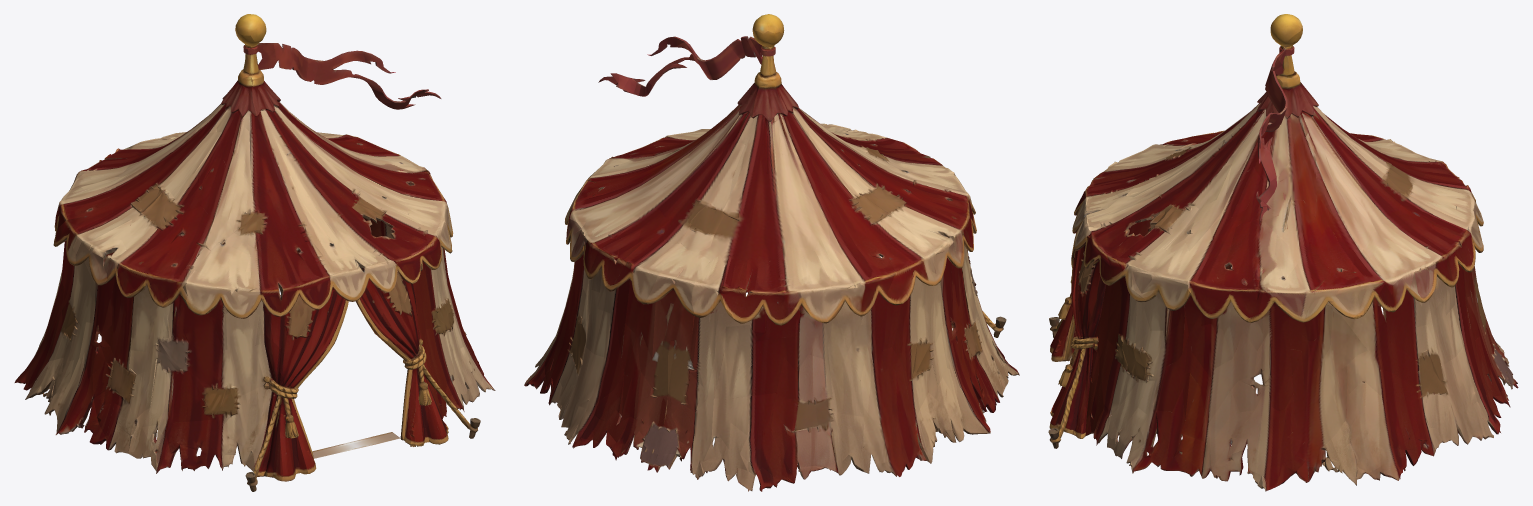
The model's file is carpa.glb.
The picture shows the model from 3 angles, left to right: view 1: azimuth 30°, elevation 25°; view 2: azimuth 150°, elevation 25°; view 3: azimuth 270°, elevation 25°; orthographic projection. The views are drawn at different scales.
Bounding box in the file's own units: 1.9 × 1.62 × 1.83.
Materials: 1 (1 with a texture image).
